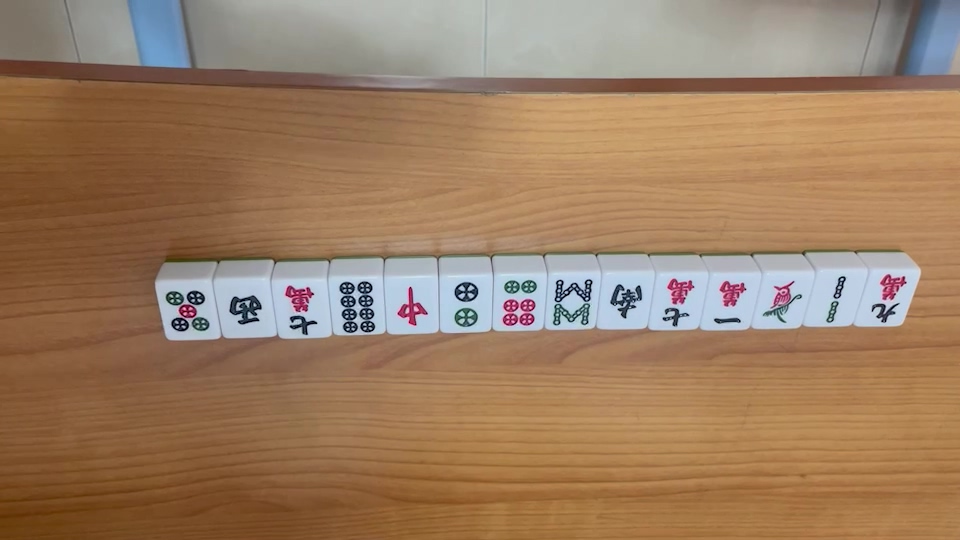b-1: (763, 279, 804, 325)
b-2: (820, 274, 849, 322)
b-8: (550, 279, 593, 328)
c-1: (710, 279, 748, 328)
c-7: (280, 284, 322, 336), (663, 277, 697, 330)
c-9: (870, 273, 912, 324)
d-2: (449, 281, 482, 328)
d-5: (166, 288, 209, 334)
d-6: (502, 277, 538, 331)
d-8: (336, 279, 376, 333)
honors-red: (395, 284, 430, 329)
honors-south: (606, 281, 646, 320)
honors-west: (226, 292, 266, 329)
